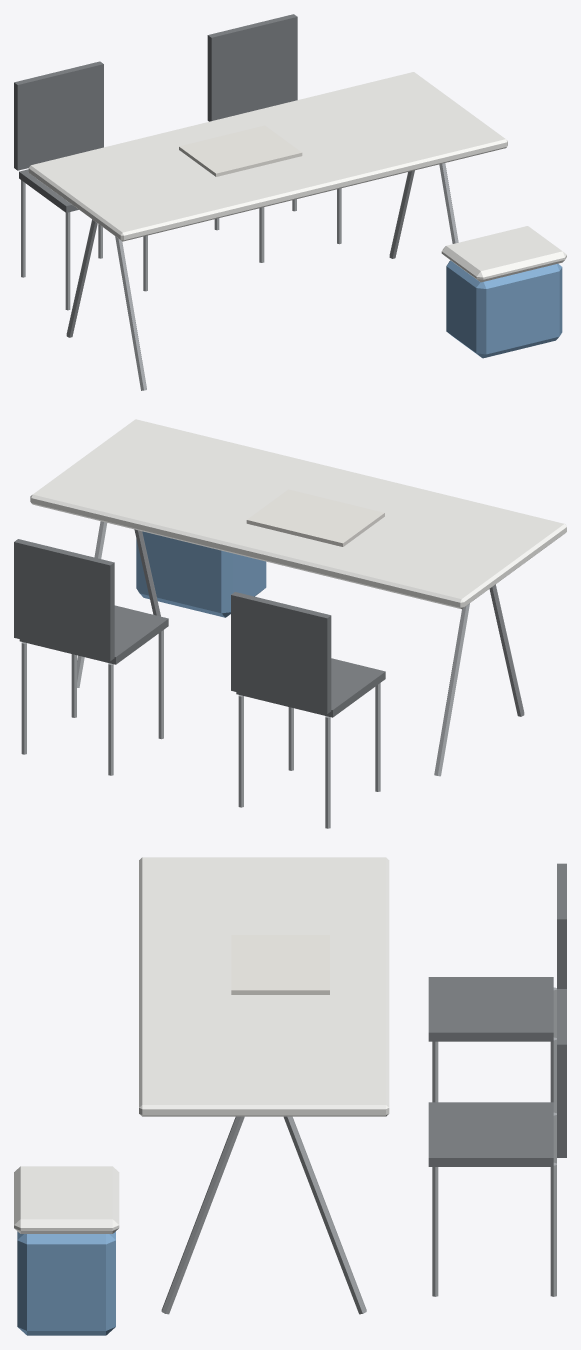
Rendered from scorer_table.glb.
3 renders of one model, top to bottom at view 1: azimuth 30°, elevation 25°; view 2: azimuth 150°, elevation 25°; view 3: azimuth 270°, elevation 25°, orthographic. The views are drawn at different scales.
Visible parts, largest first — view 1: scorer_table_paint_w, scorer_table_steel_d, scorer_table_cooler_b, scorer_table_steel, scorer_table_paper; view 2: scorer_table_paint_w, scorer_table_steel_d, scorer_table_steel, scorer_table_cooler_b, scorer_table_paper; view 3: scorer_table_paint_w, scorer_table_steel_d, scorer_table_cooler_b, scorer_table_steel, scorer_table_paper.
Part boxes in pixels (bbox=[...]): scorer_table_paint_w: bbox=[28, 72, 566, 282]; scorer_table_steel_d: bbox=[14, 14, 297, 212]; scorer_table_cooler_b: bbox=[446, 260, 562, 358]; scorer_table_steel: bbox=[21, 163, 458, 390]; scorer_table_paper: bbox=[179, 125, 302, 176]; scorer_table_paint_w: bbox=[30, 419, 566, 609]; scorer_table_steel_d: bbox=[14, 539, 385, 717]; scorer_table_steel: bbox=[21, 521, 524, 828]; scorer_table_cooler_b: bbox=[136, 531, 266, 617]; scorer_table_paper: bbox=[246, 489, 384, 546]; scorer_table_paint_w: bbox=[14, 857, 389, 1233]; scorer_table_steel_d: bbox=[428, 863, 566, 1166]; scorer_table_cooler_b: bbox=[17, 1231, 115, 1335]; scorer_table_steel: bbox=[161, 987, 556, 1314]; scorer_table_paper: bbox=[231, 935, 329, 994].
Bounding box in the file's own units: 1.86 × 0.854 × 1.68.
